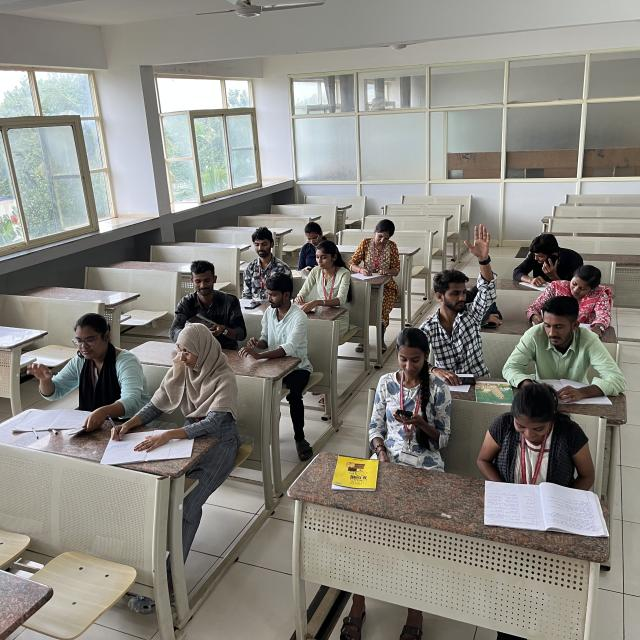Hand Rising: (424, 226, 497, 366)
Reading: (487, 385, 573, 529), (59, 311, 110, 428), (291, 242, 349, 314)
Using Phone: (374, 330, 443, 458), (510, 233, 585, 282), (296, 222, 333, 271)
Writing: (108, 316, 219, 456), (505, 296, 621, 402), (526, 268, 610, 332), (351, 219, 399, 279)
